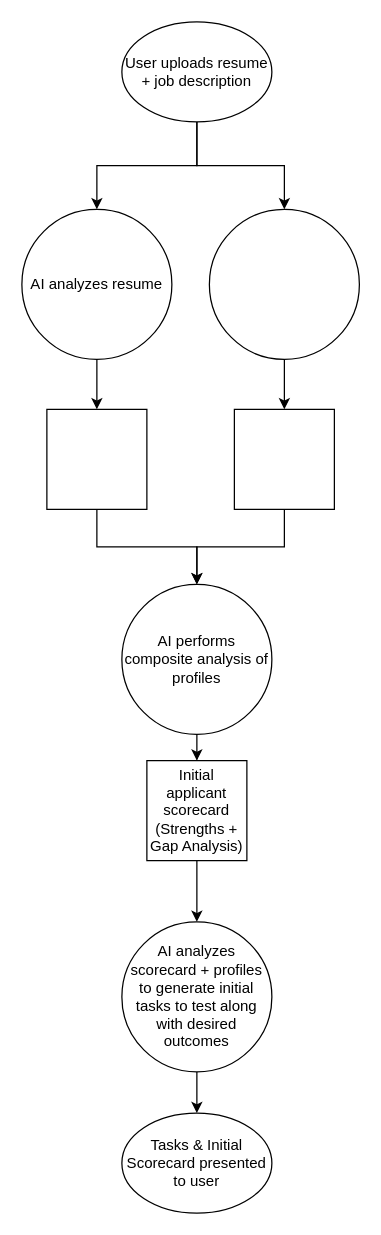
Some shapes in this 381 by 1235 pixel diagram are drawn without their labels. The box of each missing label's shape, as (x1, y1, x2, y2) in pixels:
AI analyzes job description: (208, 208, 359, 359)
Applicant Profile: (46, 408, 147, 509)
Job Profile: (233, 408, 334, 509)
